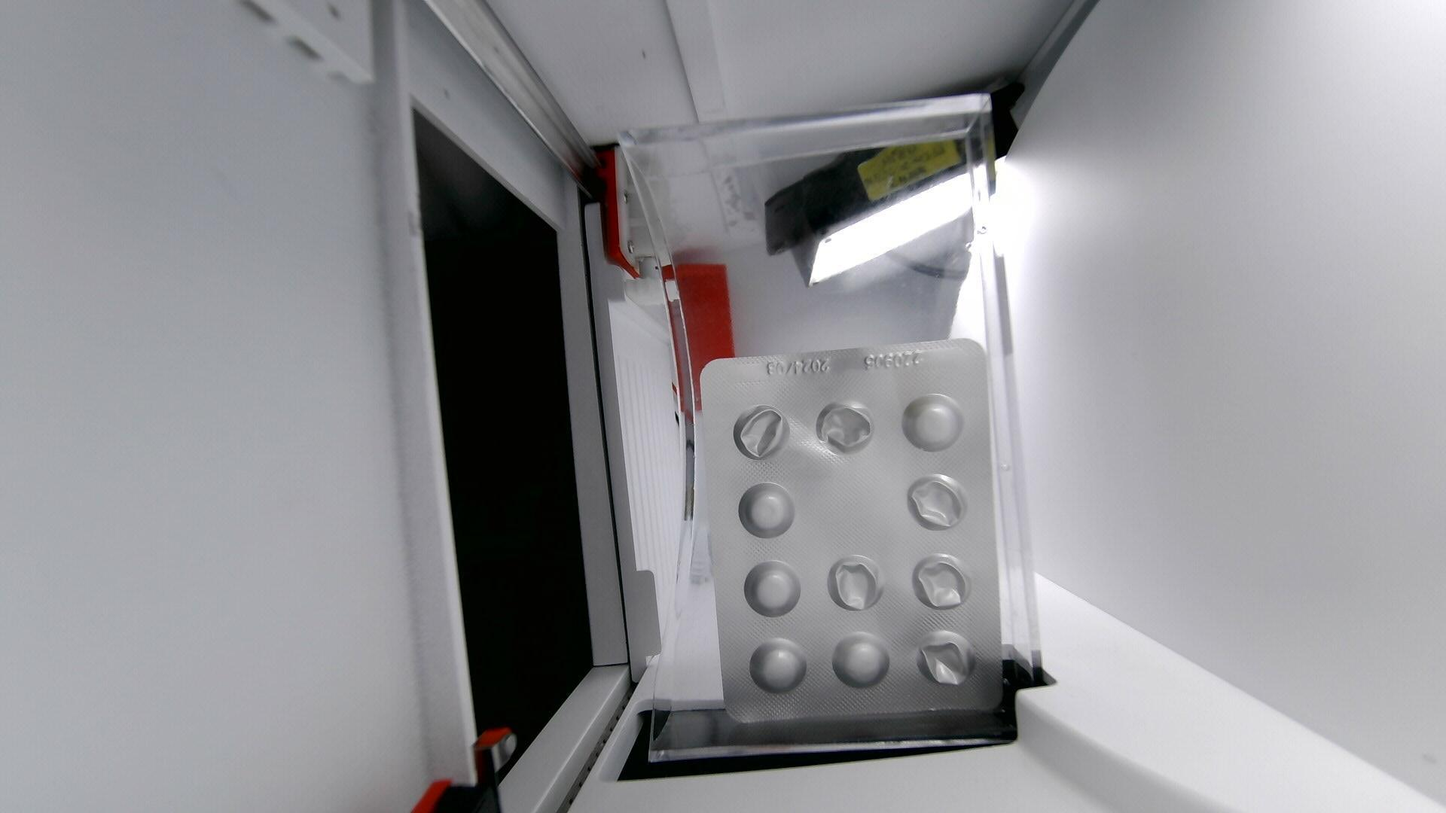Light Front: (701, 340, 1008, 723)
No Pill Front: (911, 555, 972, 609), (908, 474, 967, 529), (828, 556, 883, 611), (920, 631, 975, 685), (733, 405, 788, 459), (815, 402, 872, 452)
Pill Front: (903, 394, 963, 451), (739, 483, 795, 538), (750, 638, 805, 693), (834, 633, 889, 688), (745, 561, 799, 617)
